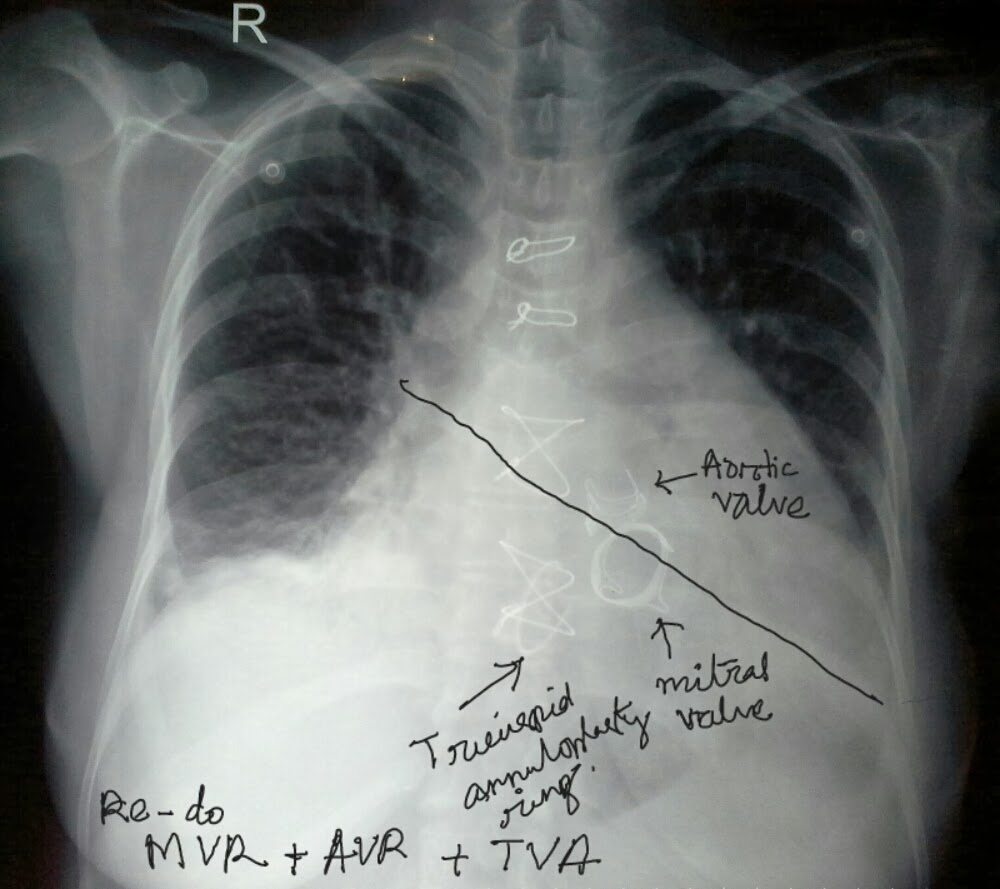telestration: (396, 377, 882, 706), (408, 678, 652, 824), (137, 833, 604, 861), (660, 649, 773, 734), (700, 447, 817, 524), (95, 786, 232, 825), (454, 652, 527, 709), (646, 613, 687, 660), (647, 463, 702, 497)
